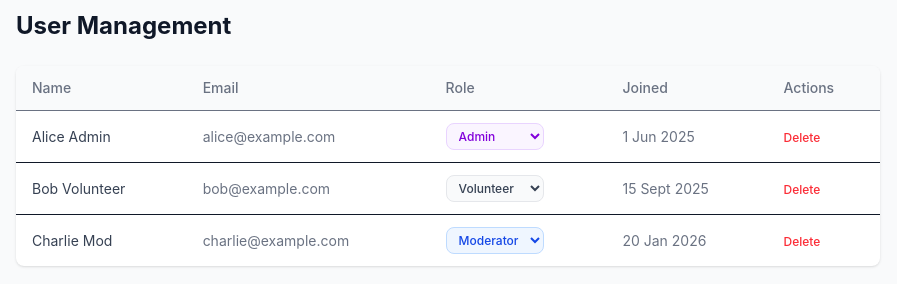
Test: UserManagement › removes user from list after deletion
Expected: the text "Bob Volunteer" is shown, 16,162 -> 187,214
Click the button "Delete" in the row of "Bob Volunteer" at (802, 190), box 784,182 -> 820,198
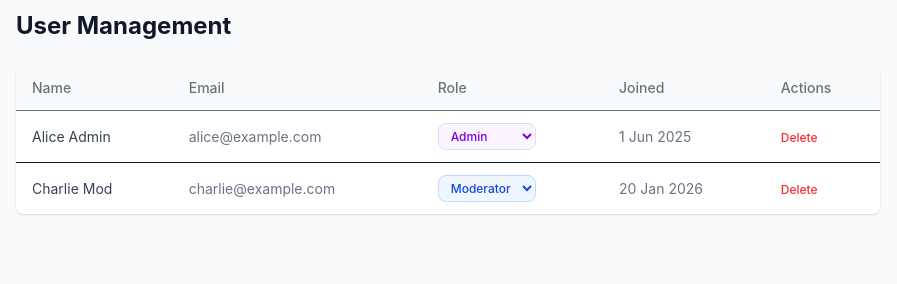
Expected: the text "Alice Admin" is shown, 16,110 -> 173,162
Now the text "Bob Volunteer" is gone
